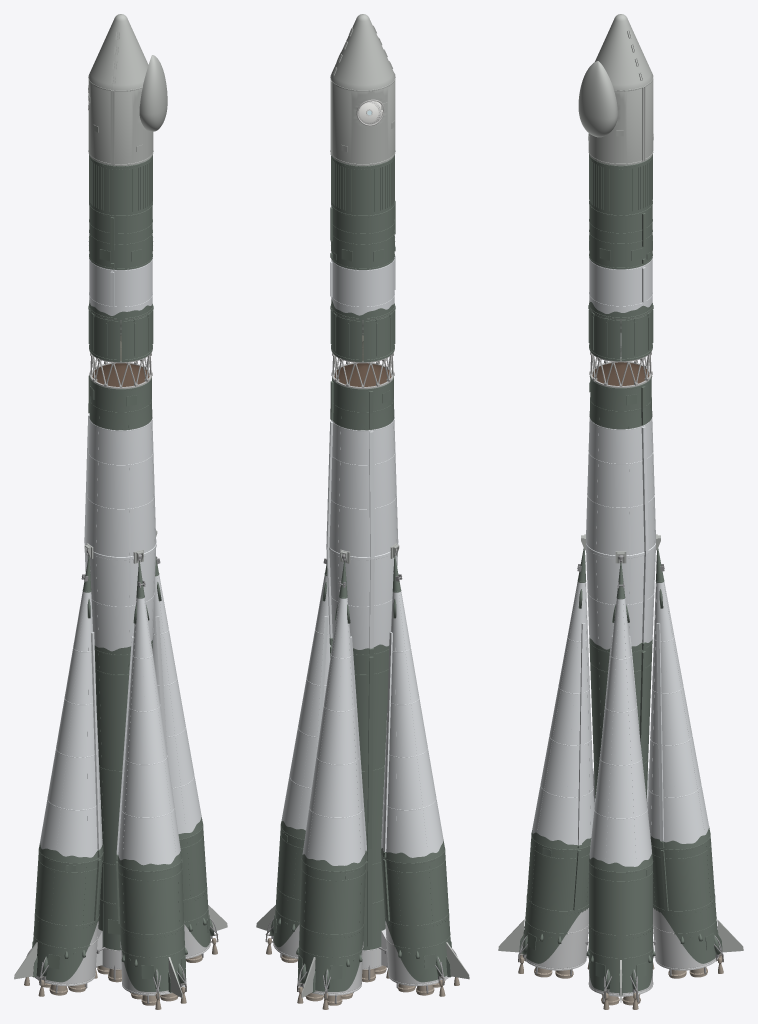
File: vehicle.glb
The picture shows the model from 3 angles, left to right: view 1: azimuth 30°, elevation 25°; view 2: azimuth 150°, elevation 25°; view 3: azimuth 270°, elevation 25°; orthographic projection.
Parts seen in each view (by area): view 1: Core_Frost, Booster_D_Frost, Booster_G_Frost, Core_Skin, Booster_D_Skin, BlockI_Fittings, Booster_G_Skin, Fairing_Right_Blister, Booster_B_Frost, Fairing_Left_Fittings, BlockI_Frost, Booster_B_Skin (+6 smaller); view 2: Core_Frost, Booster_V_Frost, Booster_G_Frost, Core_Skin, Booster_V_Skin, Fairing_Left_Fittings, BlockI_Fittings, Booster_G_Skin, Booster_B_Frost, BlockI_Frost, Booster_B_Skin, Core_Fittings (+7 smaller); view 3: Core_Frost, Booster_B_Frost, Booster_D_Frost, Booster_V_Frost, Booster_B_Skin, Fairing_Right_Blister, BlockI_Fittings, Booster_V_Skin, Booster_D_Skin, Core_Skin, BlockI_Frost, Booster_D_Shield (+7 smaller).
Boxes of the visible parts, <box> form: Core_Frost: <box>84,414,156,651</box>; Booster_D_Frost: <box>116,597,180,865</box>; Booster_G_Frost: <box>40,591,102,857</box>; Core_Skin: <box>89,376,152,950</box>; Booster_D_Skin: <box>117,562,186,991</box>; BlockI_Fittings: <box>89,155,152,319</box>; Booster_G_Skin: <box>33,556,103,982</box>; Fairing_Right_Blister: <box>112,14,167,165</box>; Booster_B_Frost: <box>152,575,201,833</box>; Fairing_Left_Fittings: <box>88,14,120,165</box>; BlockI_Frost: <box>89,257,152,315</box>; Booster_B_Skin: <box>155,557,210,947</box>; Core_Frost: <box>326,417,398,649</box>; Booster_V_Frost: <box>302,597,366,865</box>; Booster_G_Frost: <box>381,591,443,857</box>; Core_Skin: <box>331,376,394,950</box>; Booster_V_Skin: <box>297,562,366,991</box>; Fairing_Left_Fittings: <box>331,14,395,165</box>; BlockI_Fittings: <box>330,155,395,319</box>; Booster_G_Skin: <box>380,556,450,982</box>; Booster_B_Frost: <box>281,575,331,830</box>; BlockI_Frost: <box>330,255,395,315</box>; Booster_B_Skin: <box>273,564,327,947</box>; Core_Fittings: <box>329,381,390,946</box>; Core_Frost: <box>586,417,655,649</box>; Booster_B_Frost: <box>589,598,651,866</box>; Booster_D_Frost: <box>532,582,594,845</box>; Booster_V_Frost: <box>647,582,708,843</box>; Booster_B_Skin: <box>588,562,653,992</box>; Fairing_Right_Blister: <box>578,14,644,165</box>; BlockI_Fittings: <box>589,154,652,319</box>; Booster_V_Skin: <box>650,548,717,963</box>; Booster_D_Skin: <box>523,548,591,963</box>; Core_Skin: <box>589,375,652,798</box>; BlockI_Frost: <box>589,256,652,313</box>; Booster_D_Shield: <box>522,908,588,970</box>.
Size of the model in its own units: 10.27 by 44.21 by 10.27.
